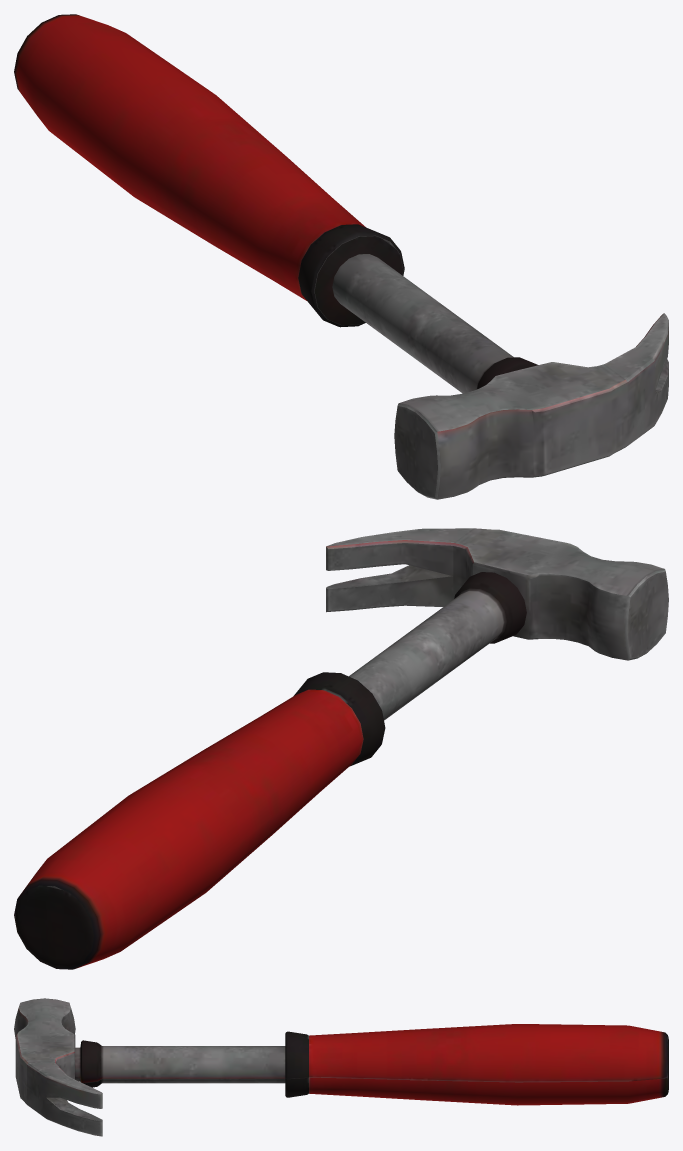
File: tool-hammer.glb
3 renders of one model, top to bottom at view 1: azimuth 30°, elevation 25°; view 2: azimuth 150°, elevation 25°; view 3: azimuth 270°, elevation 25°, orthographic. The views are drawn at different scales.
Parts seen in each view (by area): view 1: Hammer; view 2: Hammer; view 3: Hammer.
Part boxes in pixels (x1,y1,x2,y2): Hammer: [14, 14, 668, 499]; Hammer: [14, 528, 668, 969]; Hammer: [14, 998, 668, 1136].
Size of the model in its own units: 0.0838 by 0.0316 by 0.2548.
Materials: 1 (1 with a texture image).
